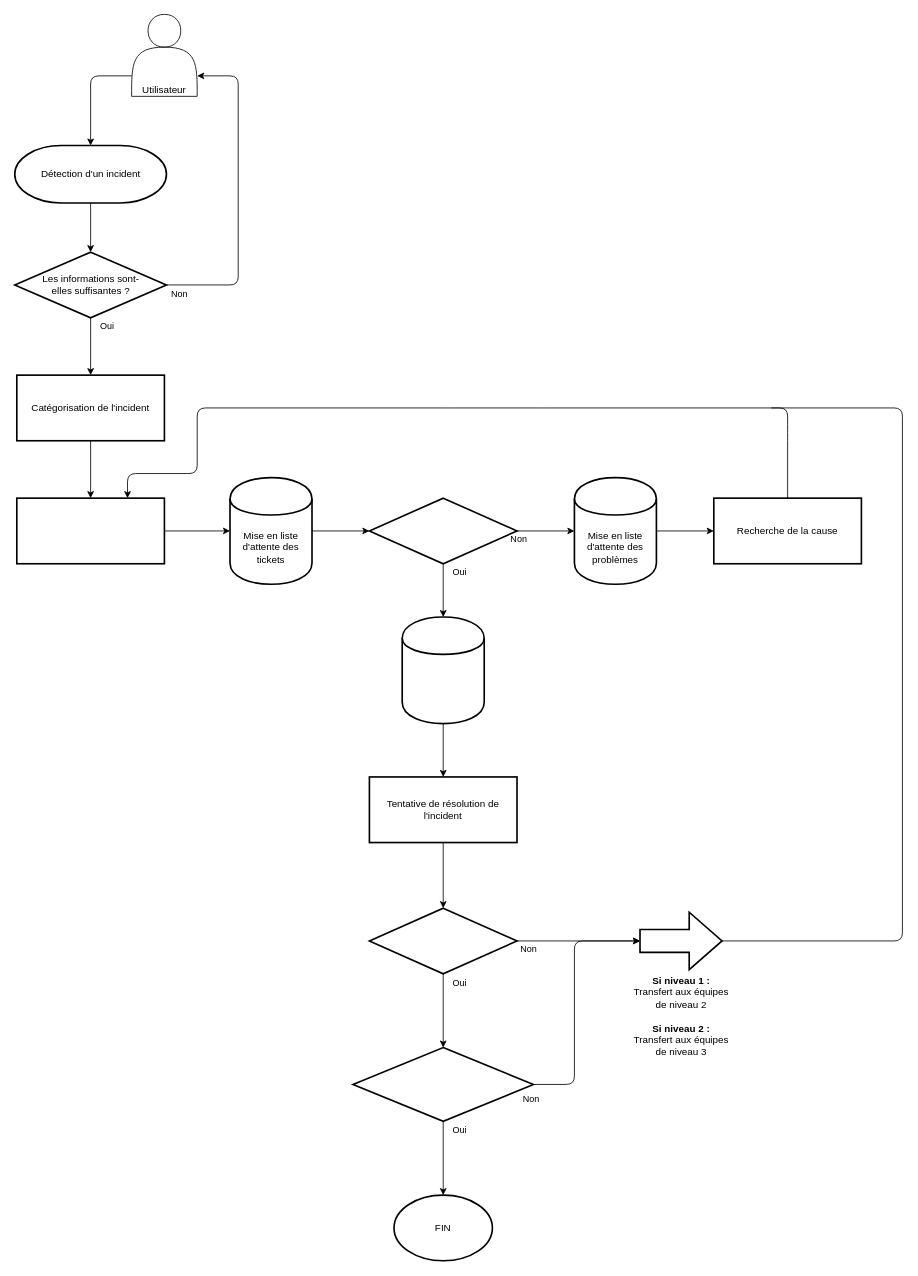
This 918x1276 diagram has some shape labels left out. Each missing label, with the centre of its shape:
"Confirmation de l'utilisateur ayant déclenché le ticket ?" goes at pixel 443 1084.
"L'incident est-il résolu ?" goes at pixel 442 940.
"La cause est-elle connue ?" goes at pixel 442 530.
"Mise en liste d'attente des incidents" goes at pixel 443 670.
"Priorisation par niveaux" goes at pixel 90 530.
